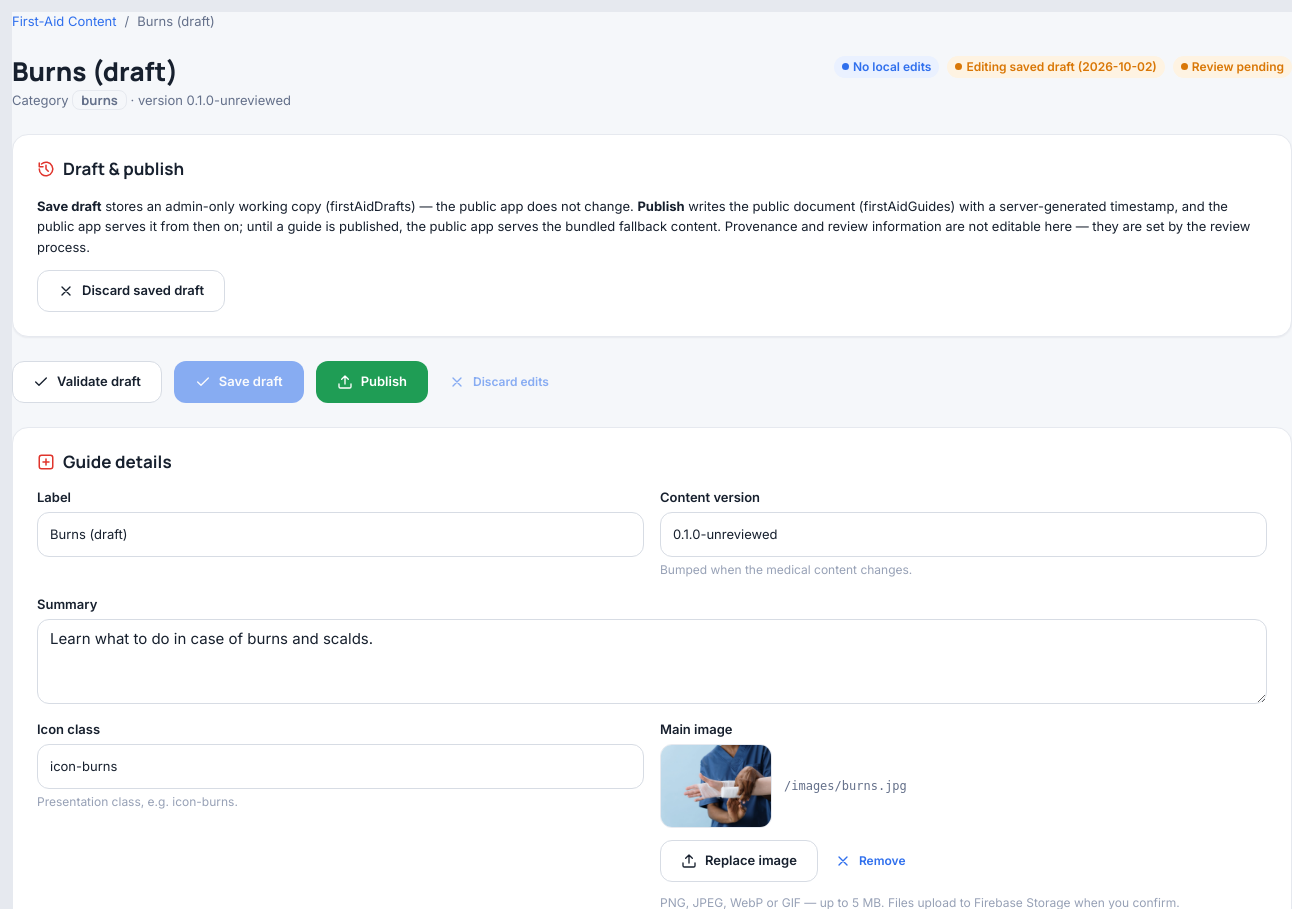
AdminGuideEditorPage — editor › discards a saved draft through the service on confirmation
Expected: the heading "Burns (draft)" is shown, top-left (12, 52), bottom-right (178, 88)
Step 1. Click the button "Discard saved draft" → (131, 291), box top-left (37, 270), bottom-right (225, 312)
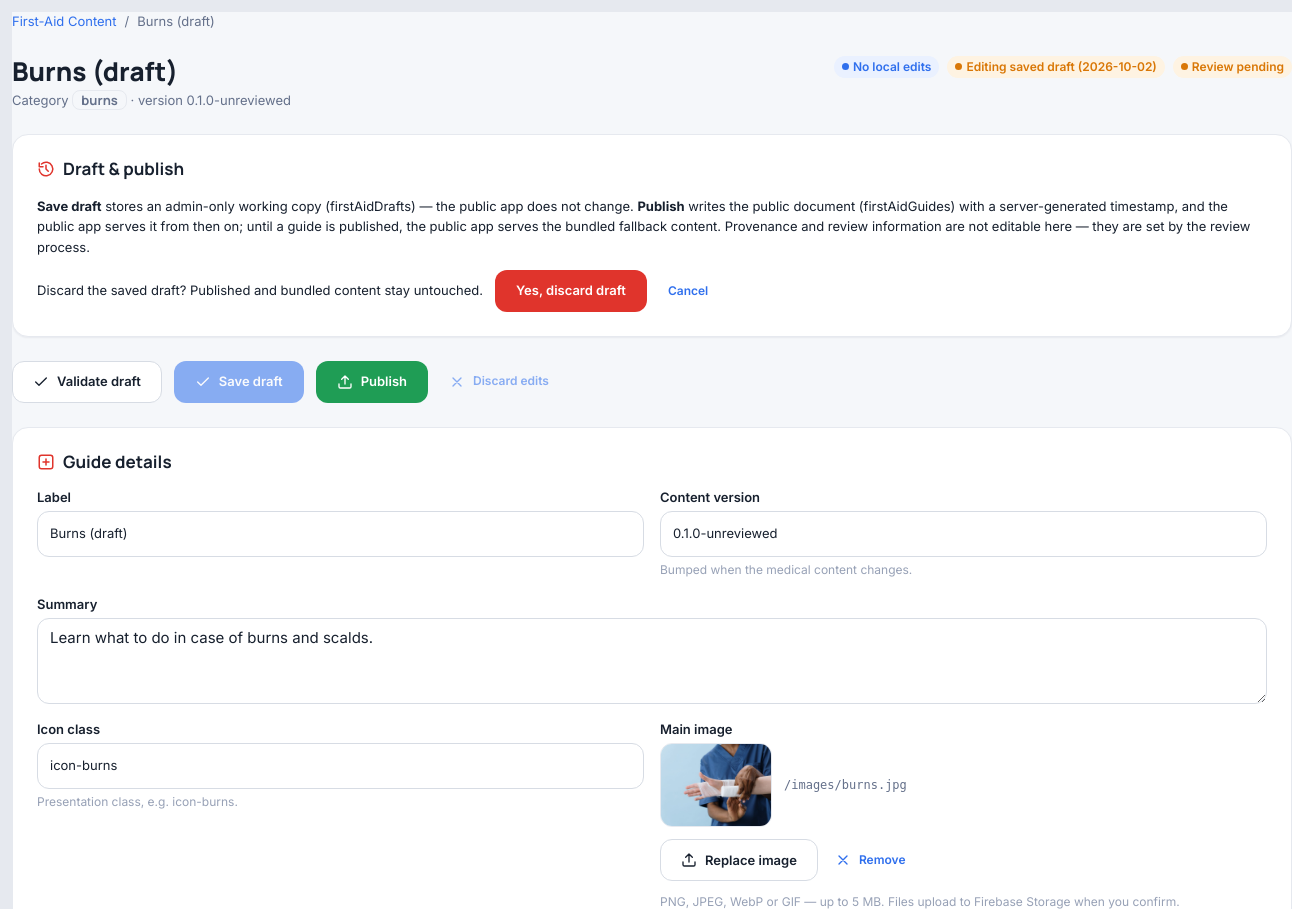
Step 2. Click the button "Yes, discard draft" → (571, 291), box top-left (495, 270), bottom-right (647, 312)
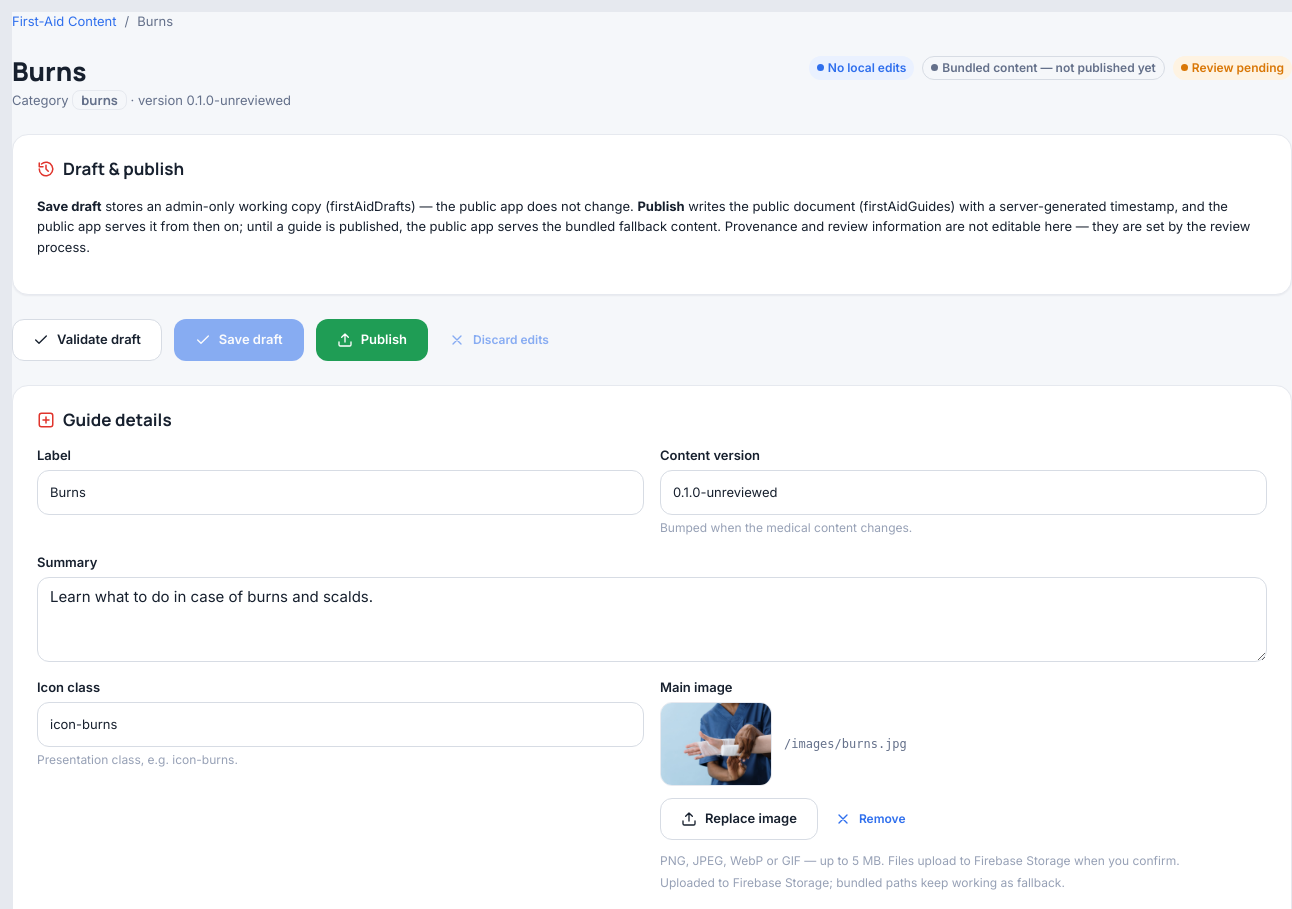
Expected: the heading "Burns" is shown, top-left (12, 52), bottom-right (87, 88)
Result: the text "Bundled content — not published yet" is shown at top-left (922, 56), bottom-right (1165, 80)
